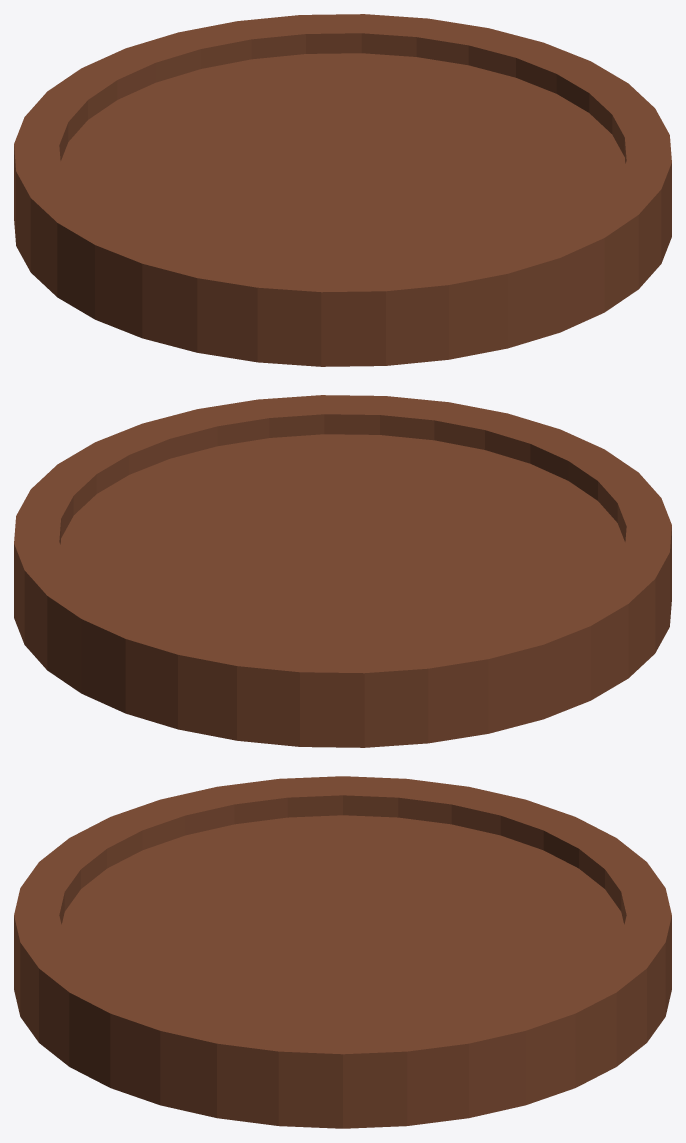
Rendered from Coin2.fbx.
The picture shows the model from 3 angles, top to bottom: view 1: azimuth 30°, elevation 25°; view 2: azimuth 150°, elevation 25°; view 3: azimuth 270°, elevation 25°; orthographic projection.
Parts seen in each view (by area): view 1: Coin; view 2: Coin; view 3: Coin.
Part boxes in pixels (x1,y1,x2,y2): Coin: (14,14,671,366); Coin: (14,395,671,747); Coin: (14,776,671,1128).
Size of the model in its own units: 20 by 2.5 by 20.
